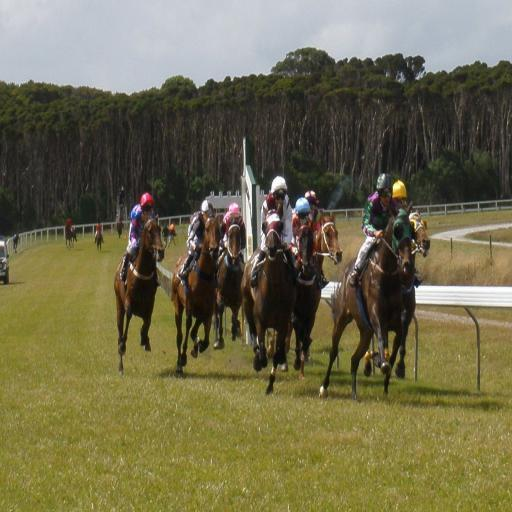horse: (318, 200, 414, 402), (361, 206, 432, 378), (266, 214, 345, 363), (238, 202, 296, 394), (168, 210, 220, 376), (114, 214, 166, 376), (280, 214, 318, 382), (216, 216, 244, 352), (62, 222, 77, 248), (94, 226, 103, 250)
